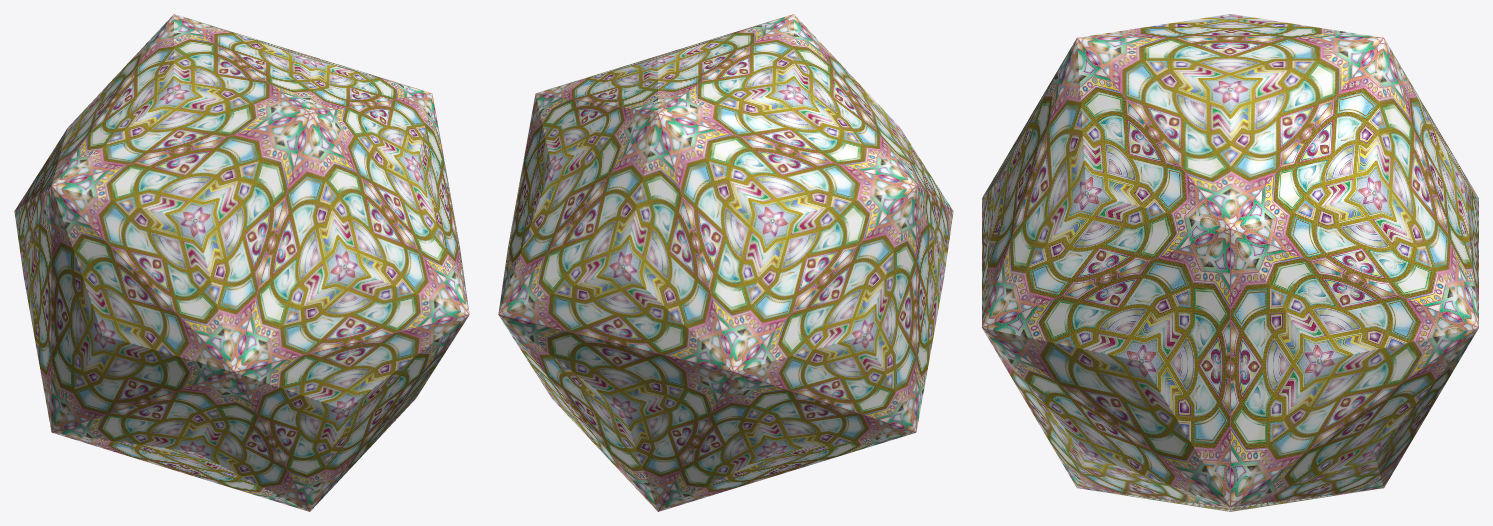
File: 6TriakisIcosahedron.obj
The picture shows the model from 3 angles, left to right: view 1: azimuth 30°, elevation 25°; view 2: azimuth 150°, elevation 25°; view 3: azimuth 270°, elevation 25°; orthographic projection. The views are drawn at different scales.
Size of the model in its own units: 5.85 by 5.85 by 5.85.
1 material, 1 textured.
